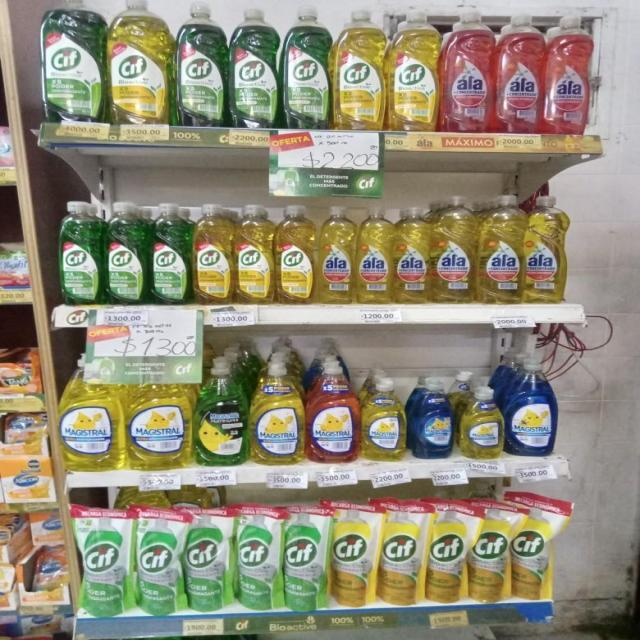ala_conc_amarillo: (524, 193, 570, 304), (478, 193, 522, 305), (431, 195, 475, 305), (318, 204, 355, 305), (356, 205, 392, 305), (394, 204, 429, 305)
ala_conc_rojo: (442, 10, 493, 134), (544, 15, 593, 135), (495, 13, 542, 135)
cif_conc_bot_amarilla: (108, 0, 170, 126), (334, 7, 385, 131), (388, 10, 439, 132), (193, 203, 233, 305), (276, 204, 316, 306), (235, 203, 274, 305)
cif_conc_botella_verde: (39, 0, 104, 124), (175, 1, 226, 128), (282, 3, 331, 130), (230, 5, 279, 129), (57, 200, 102, 306), (105, 200, 147, 306), (150, 201, 191, 305)
cif_conc_sachet_amarillo: (331, 503, 377, 609), (380, 500, 424, 607), (428, 501, 468, 605), (470, 502, 510, 604), (512, 506, 552, 602)
cif_conc_sachet_verde: (77, 505, 130, 618), (134, 508, 183, 616), (184, 508, 232, 613), (283, 505, 328, 612), (236, 506, 280, 612)
magistral_con_amarillo: (58, 376, 123, 472), (251, 355, 304, 465), (127, 381, 191, 469), (361, 376, 407, 462), (459, 385, 504, 460)
magistral_con_azul: (506, 357, 556, 458), (411, 376, 455, 460)
magistral_con_rojo: (307, 356, 358, 464)
